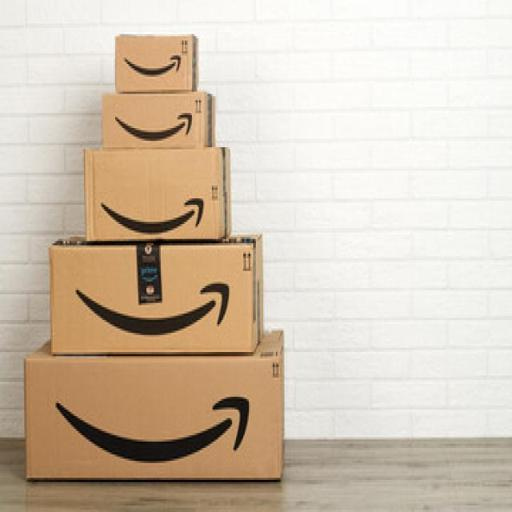Amazon: (24, 357, 283, 481), (52, 241, 261, 353), (85, 150, 229, 240), (115, 26, 207, 90), (102, 93, 212, 145)
